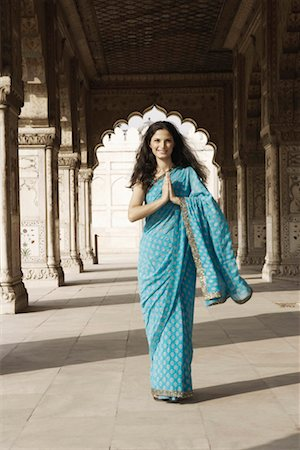person: (119, 118, 225, 407)
